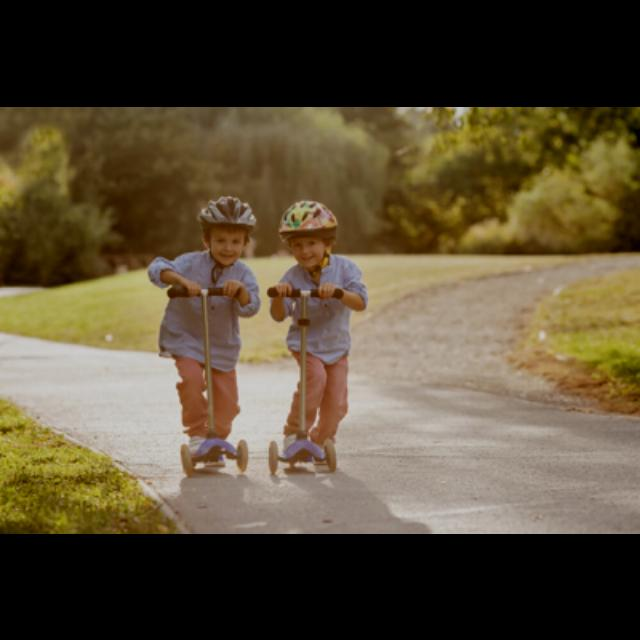With Helmet: (272, 190, 344, 268)
